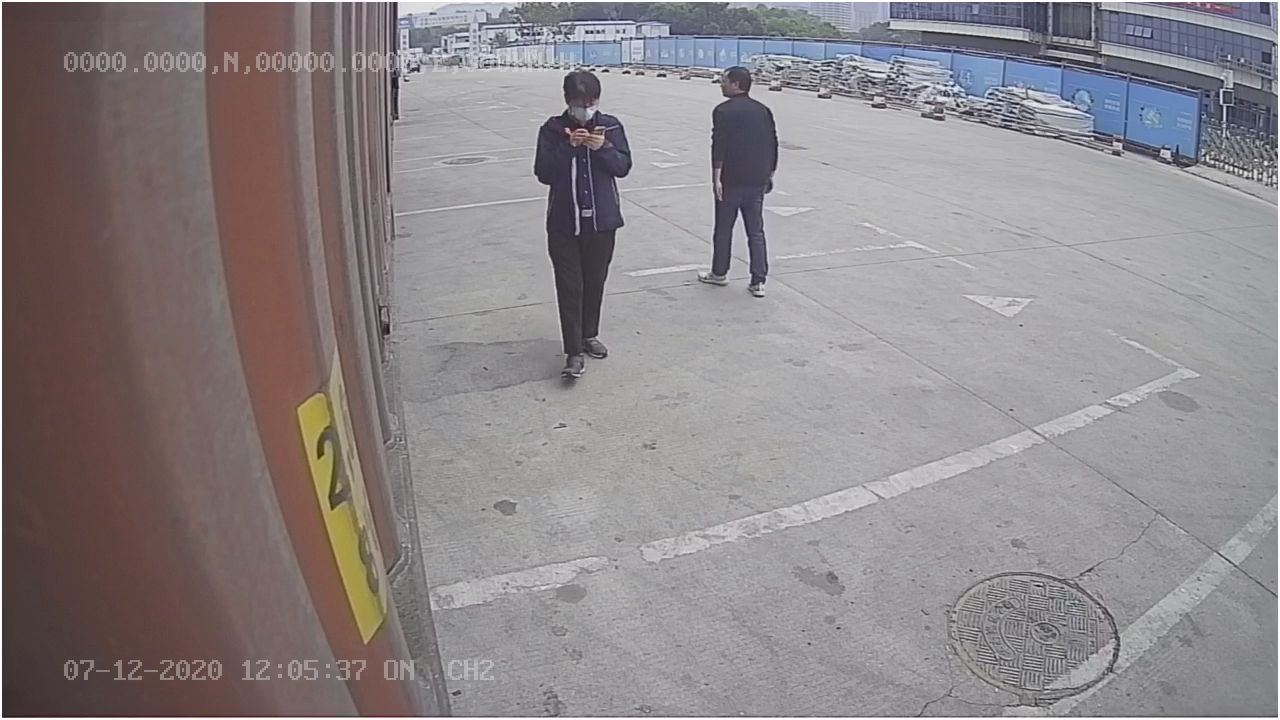person: (530, 70, 632, 383), (694, 64, 786, 303)
